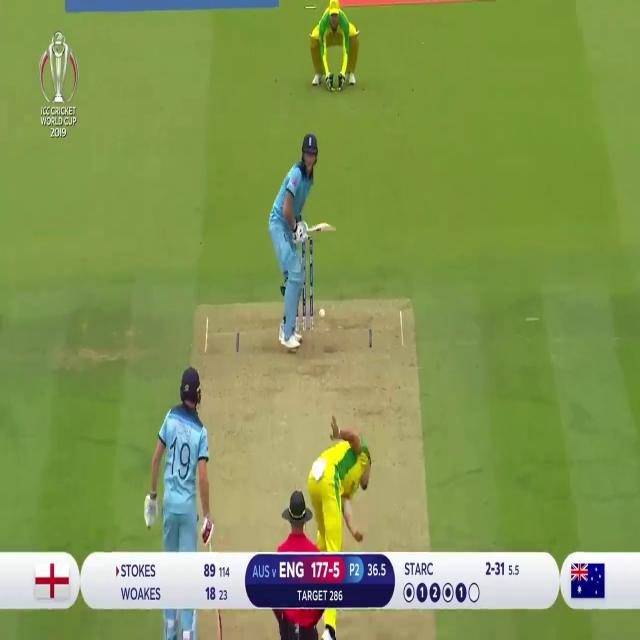ball: (318, 306, 327, 322)
